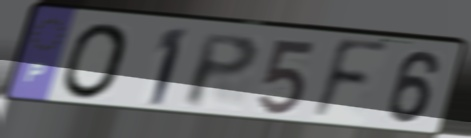1: (151, 26, 192, 109)
5: (254, 36, 322, 117)
6: (386, 50, 443, 126)
F: (306, 36, 392, 125)
O: (60, 21, 132, 102)
P: (182, 31, 262, 110)
